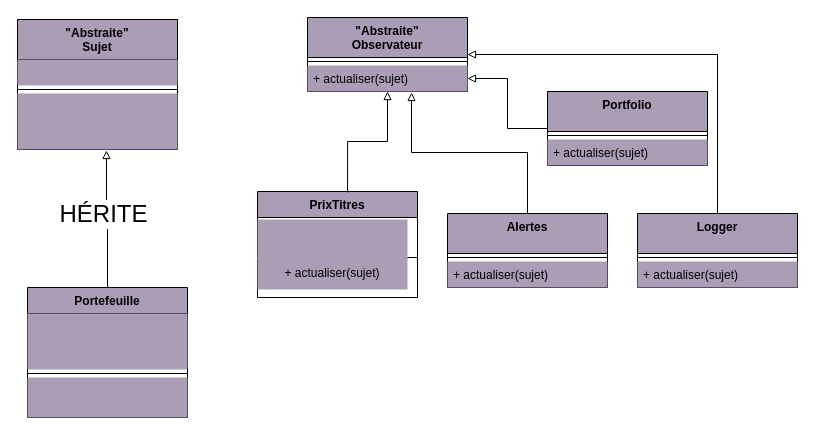
The diagram is 815 pixels wide and 438 high, and some of its shapes have lost their labels. Here are the shapes that lost their labels. From the top down, the centre of each, then its label:
point (97, 72): # _observateurs: list
point (97, 121): + abonner(obs) + desabonner(obs) + notifier()
point (332, 239): - labels_prix
point (107, 341): - titres : dict - prix_actuels : dict
point (107, 397): + rafraichir() + get_donnees(): dict
